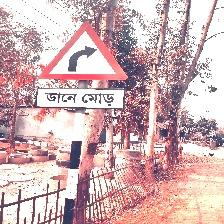Right-turn: (35, 21, 129, 113)
